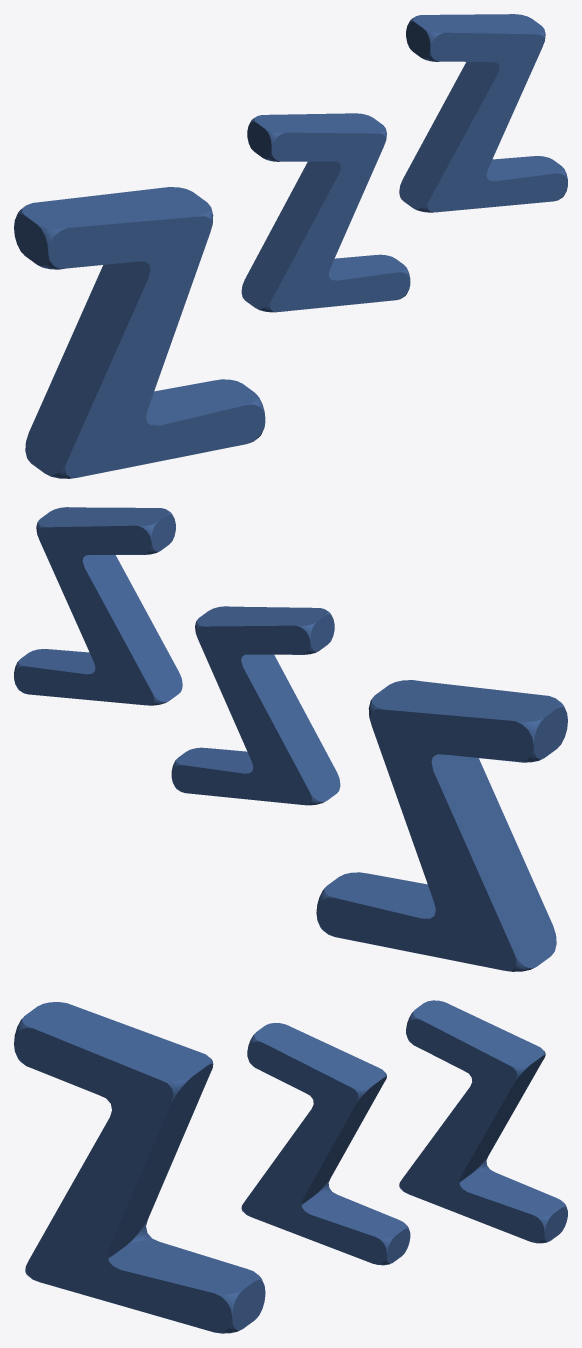
Rendered from ZZZ.glb.
3 renders of one model, top to bottom at view 1: azimuth 30°, elevation 25°; view 2: azimuth 150°, elevation 25°; view 3: azimuth 330°, elevation 25°, orthographic.
Visible parts, largest first — view 1: Text, Text.001, Text.002; view 2: Text, Text.001, Text.002; view 3: Text, Text.002, Text.001.
Boxes of the visible parts, <box> form: Text: <box>14,187,265,478</box>; Text.001: <box>241,113,410,312</box>; Text.002: <box>399,14,567,212</box>; Text: <box>316,680,567,971</box>; Text.001: <box>171,606,340,805</box>; Text.002: <box>14,507,182,705</box>; Text: <box>14,1002,265,1333</box>; Text.002: <box>399,1000,567,1243</box>; Text.001: <box>241,1023,410,1265</box>.
Size of the model in its own units: 14.13 by 9.24 by 1.79.
